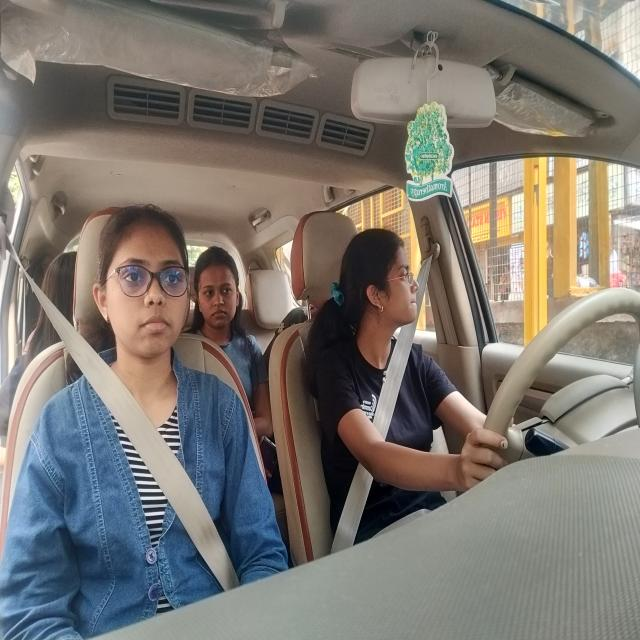person: (80, 194, 196, 373), (335, 216, 434, 370), (187, 231, 253, 349)
